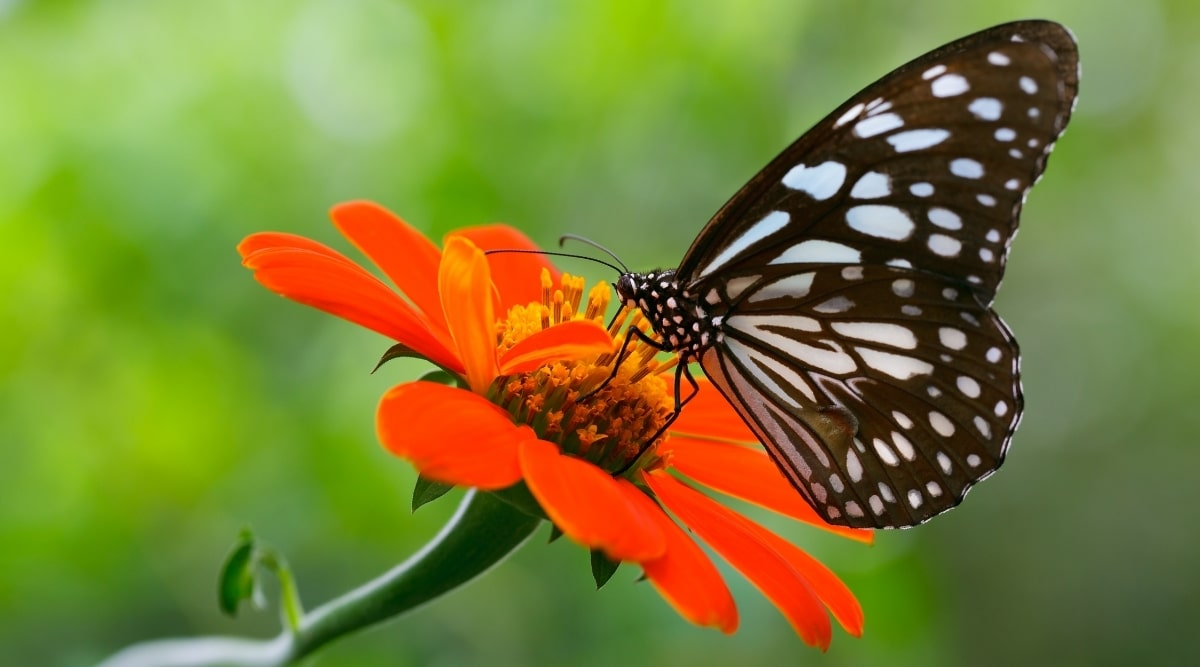Butterfly: (554, 24, 1085, 537)
